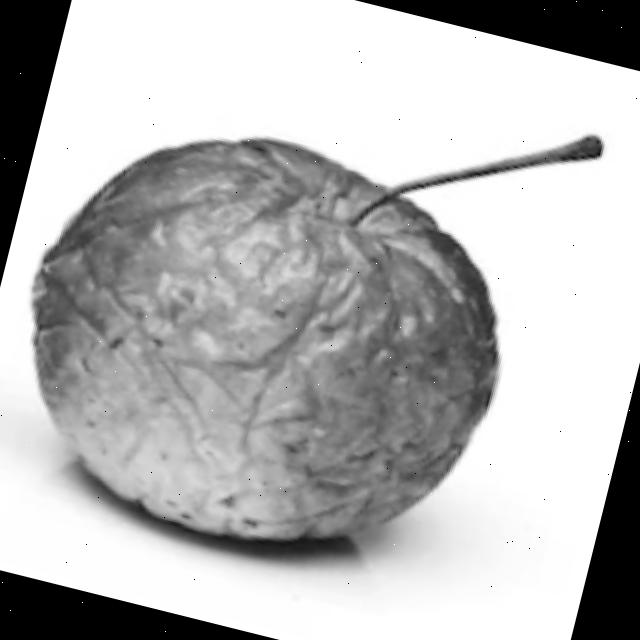overripe: (0, 78, 554, 603)
